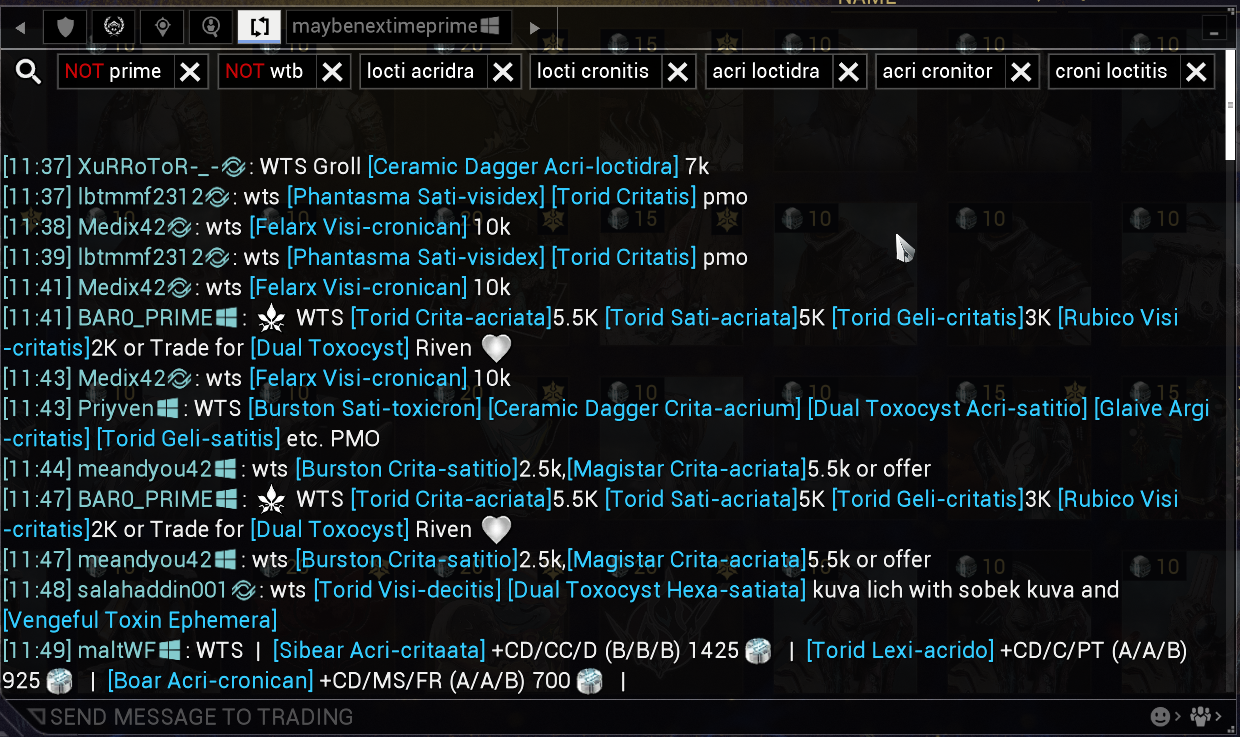link: (486, 393, 805, 427), (806, 393, 1089, 427), (508, 577, 803, 608), (366, 152, 680, 180), (565, 454, 807, 487), (284, 182, 546, 212), (285, 243, 547, 272), (245, 394, 482, 426), (273, 634, 490, 668), (566, 545, 808, 575), (294, 454, 520, 486), (246, 212, 470, 243), (293, 546, 520, 576), (106, 666, 317, 697), (828, 301, 1024, 334), (248, 273, 469, 302), (831, 485, 1024, 518), (801, 635, 999, 667), (603, 304, 799, 336), (248, 365, 470, 393), (349, 305, 553, 335), (310, 577, 504, 607), (603, 486, 801, 515), (349, 486, 554, 514), (95, 425, 285, 452), (549, 184, 699, 213), (1057, 302, 1187, 334), (1054, 484, 1184, 516), (552, 243, 700, 271), (1093, 395, 1210, 423), (1125, 379, 1126, 380)
